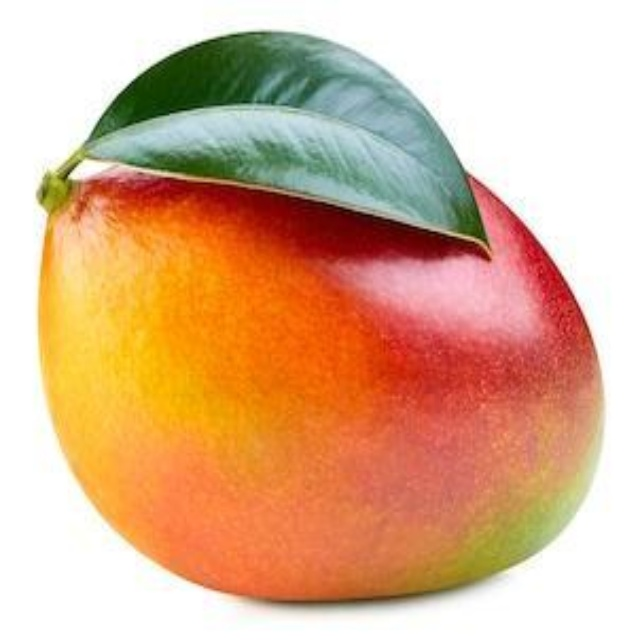mango: (20, 144, 598, 602)
